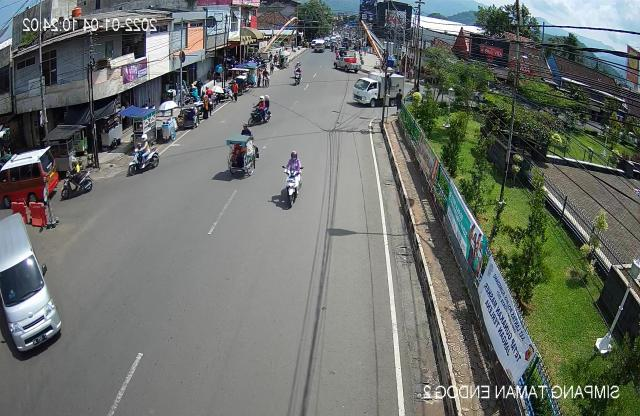Mobil: (0, 213, 61, 375), (0, 146, 59, 212)
Motor: (272, 148, 306, 218), (124, 133, 158, 185), (61, 156, 94, 204), (242, 95, 276, 128)
Truk: (352, 67, 404, 113)
